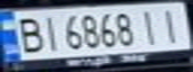6: (60, 11, 84, 51), (96, 10, 121, 48)
8: (112, 9, 139, 47), (78, 11, 103, 51)
B: (9, 14, 45, 54)
I: (133, 6, 166, 45), (154, 6, 187, 44), (36, 12, 60, 52)
